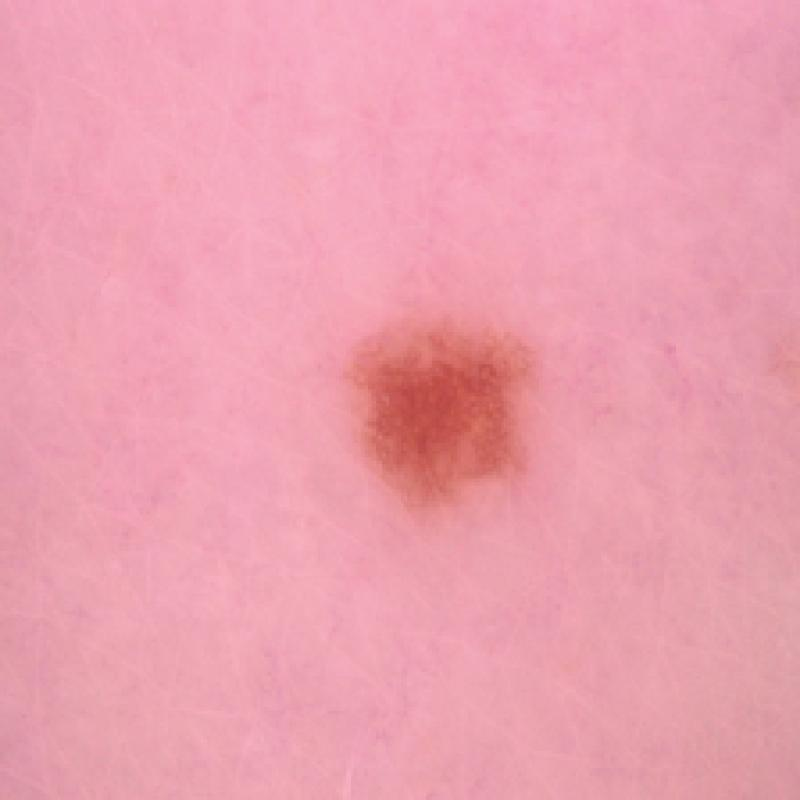benign: (335, 315, 570, 539)
